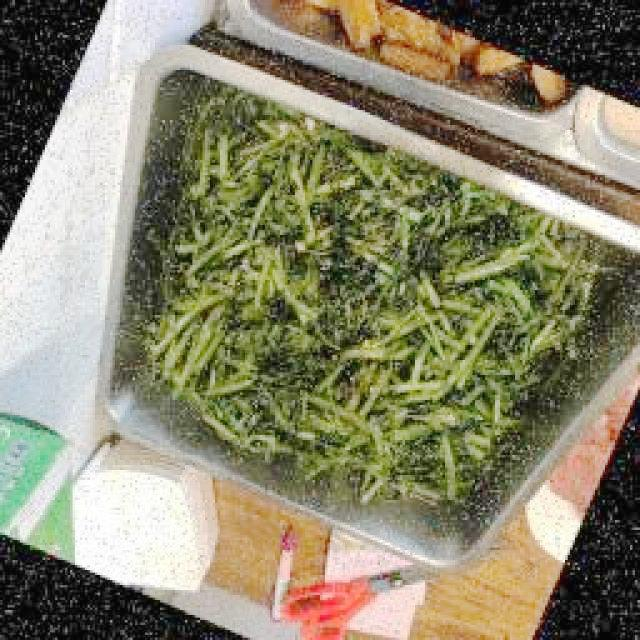water_spinach: (167, 286, 509, 463), (183, 154, 401, 283), (499, 210, 566, 359), (440, 175, 494, 288), (405, 166, 437, 292), (505, 336, 550, 386)
